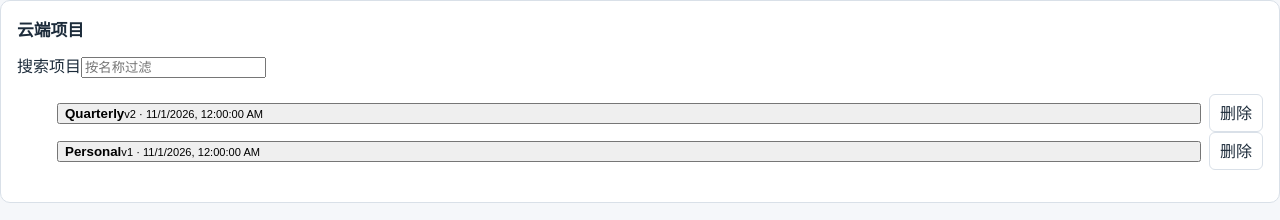
Test case: ProjectList › supports two-step deletion and notifies the parent
Expected: the text "Quarterly" is shown, x1=65 y1=106 x2=124 y2=121
Click the button with aria-label "删除 Quarterly": (1236,113) x1=1209 y1=94 x2=1263 y2=132
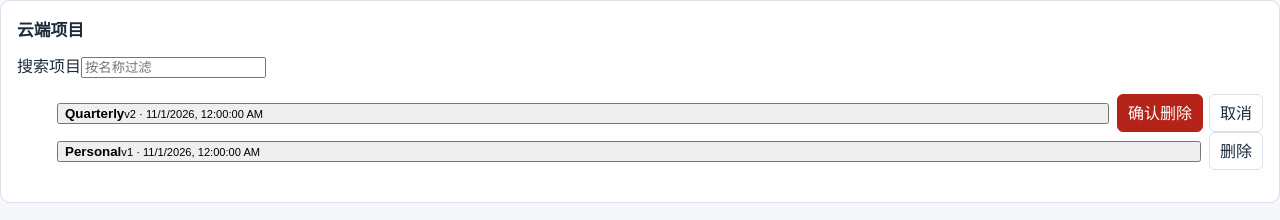
Click the button "确认删除": (1160,113) x1=1117 y1=94 x2=1203 y2=132
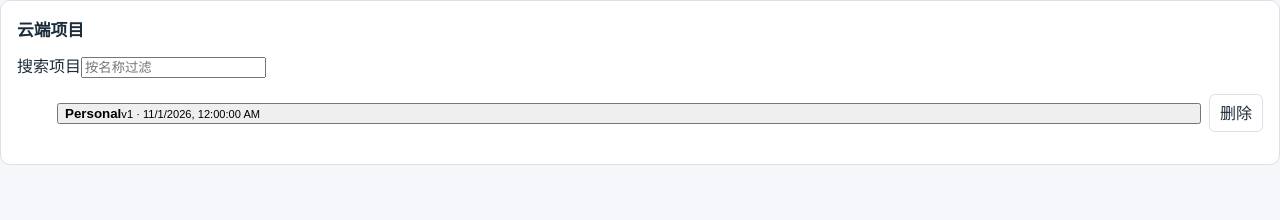
Expected: the button "Quarterly" is gone
